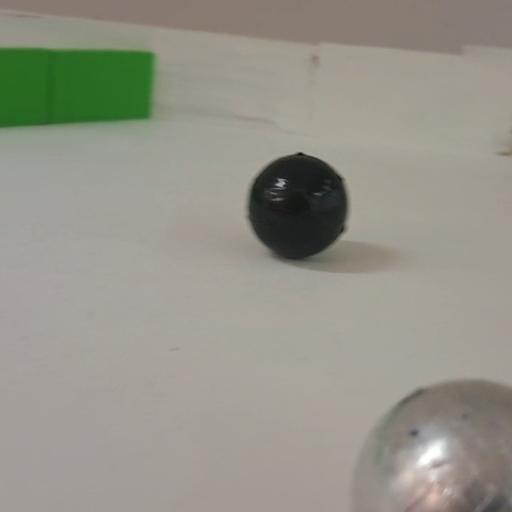alive: (347, 383, 512, 512)
dead: (250, 156, 347, 262)
